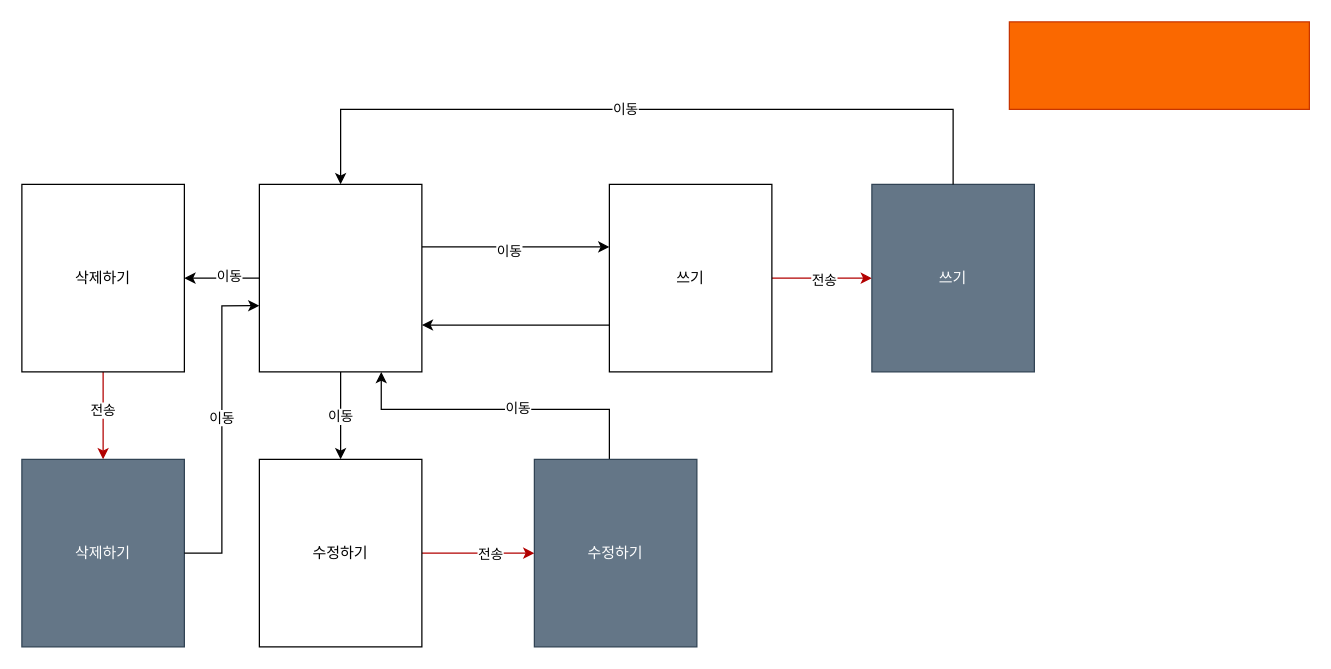
This 1331x669 diagram has some shape labels left out. The centre of each missing label's shape, as x and y in pixels:
<화살표> GET 방식(검은색) POST 방식 (빨간색): the point at 1158,65
목록보기: the point at 340,277
